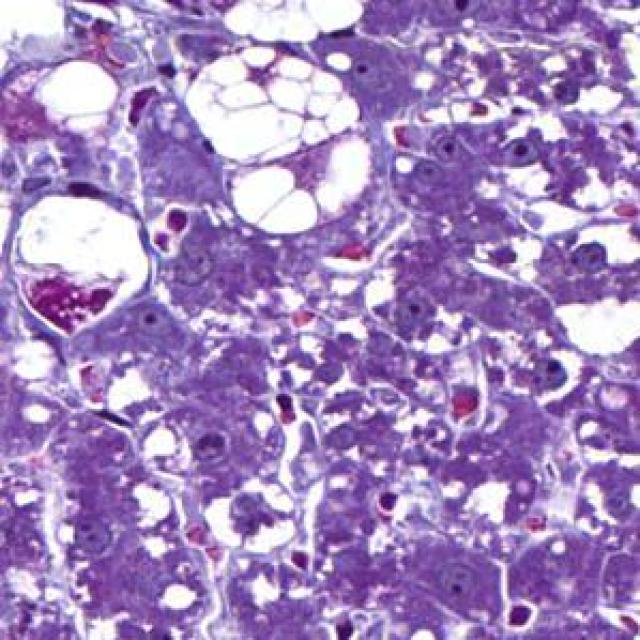ballooning: (180, 43, 381, 242), (9, 186, 154, 345), (212, 6, 374, 49)
